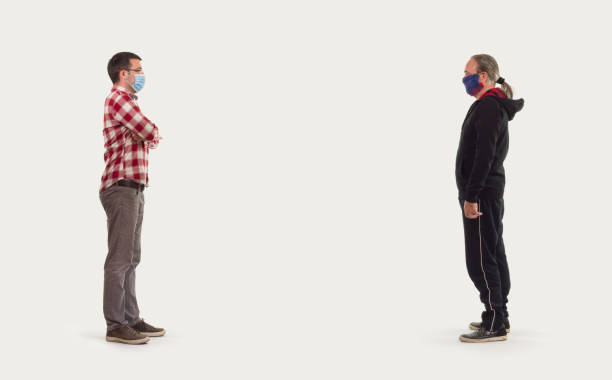person: (100, 51, 166, 345), (454, 55, 512, 339)
